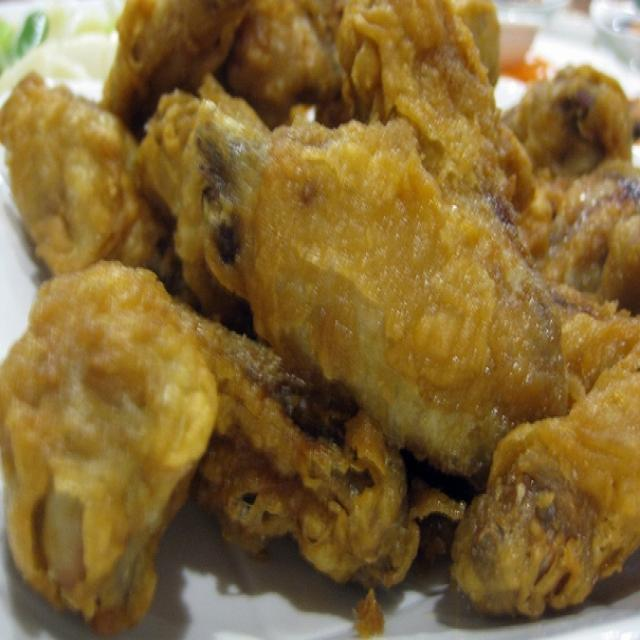Deep fried chicken wing: (9, 9, 637, 605)
